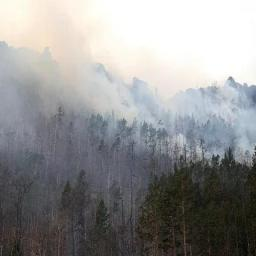Low smoke: (17, 6, 256, 170)
